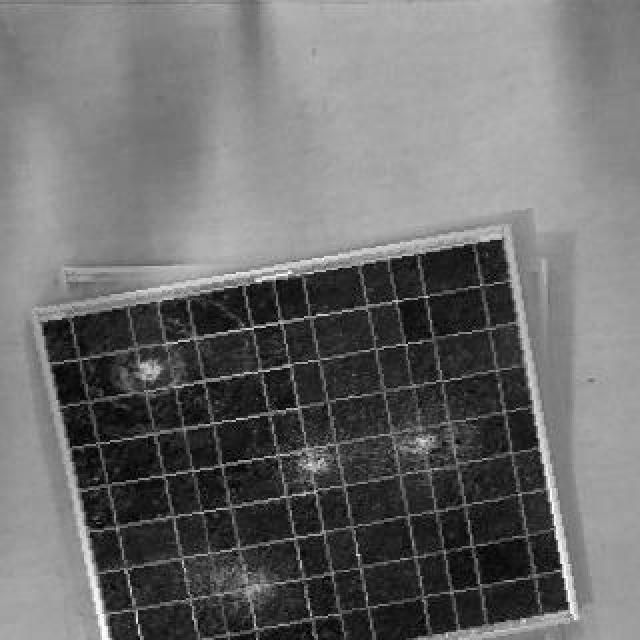Physical-damage: (390, 420, 460, 470), (216, 562, 278, 613), (110, 350, 179, 394), (280, 444, 344, 488)
